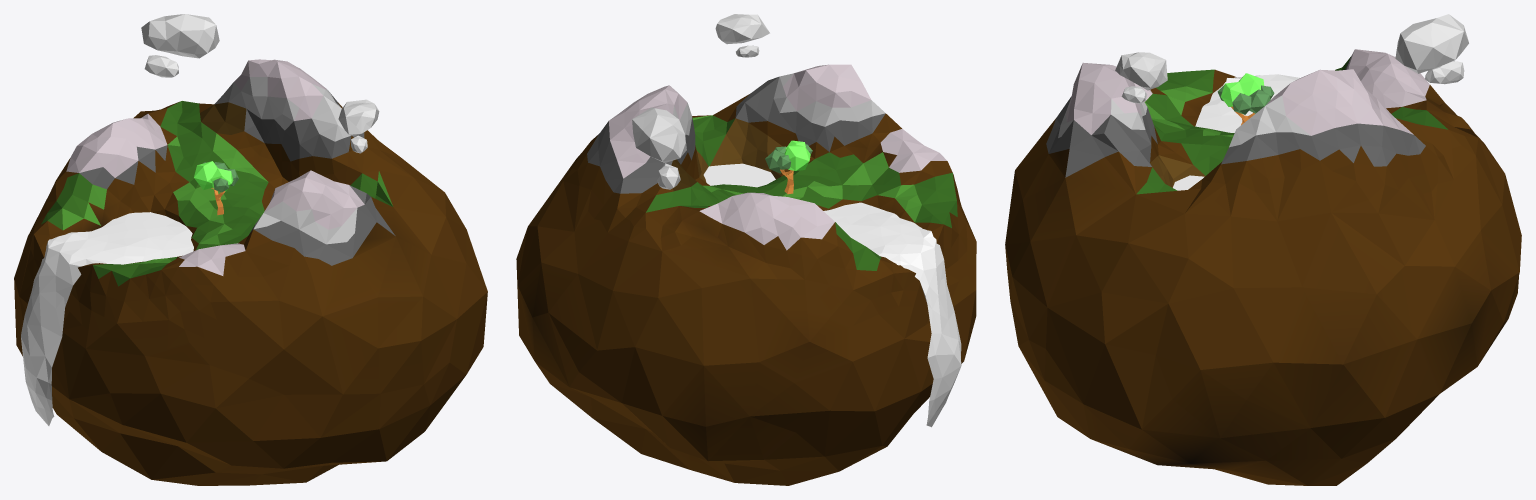
Rendered from insel4.glb.
3 renders of one model, left to right at view 1: azimuth 30°, elevation 25°; view 2: azimuth 150°, elevation 25°; view 3: azimuth 270°, elevation 25°, orthographic. The views are drawn at different scales.
Visible parts, largest first — view 1: Island, Water, Cloud.002, Cloud.004, Cloud.001; view 2: Island, Water, Cloud.002, Cloud.004; view 3: Island, Cloud.002, Water, Cloud.004, Cloud.001.
Part boxes in pixels (box(x1,y1,x2,y2)): Island: box(14, 59, 487, 485); Water: box(21, 212, 193, 425); Cloud.002: box(141, 14, 219, 58); Cloud.004: box(338, 99, 379, 136); Cloud.001: box(144, 55, 178, 77); Island: box(516, 64, 976, 485); Water: box(703, 163, 961, 427); Cloud.002: box(632, 107, 686, 162); Cloud.004: box(715, 14, 769, 44); Island: box(1005, 49, 1521, 485); Cloud.002: box(1395, 14, 1468, 73); Water: box(1173, 74, 1299, 190); Cloud.004: box(1115, 52, 1167, 90); Cloud.001: box(1425, 61, 1464, 84).
Size of the model in its own units: 20.36 by 18.59 by 19.76.
